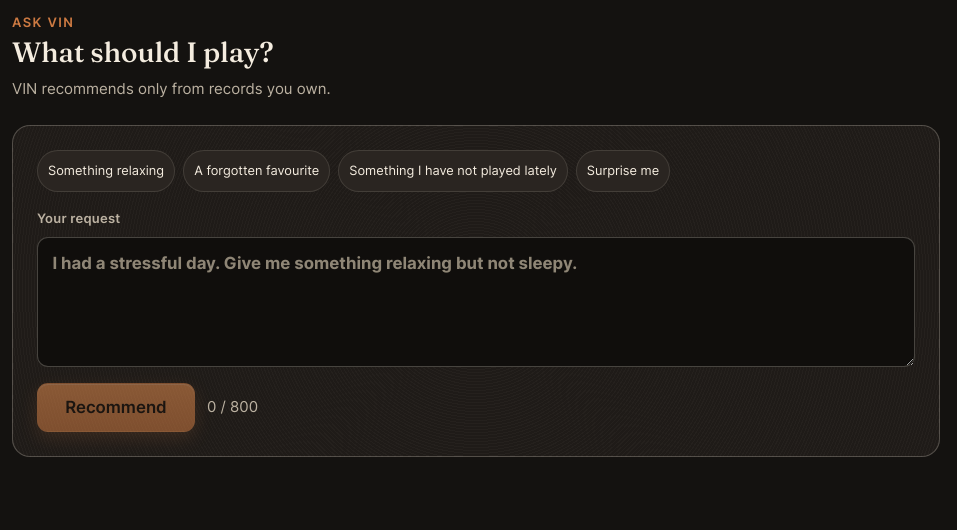
Scenario: CuratorPanel › renders the empty-collection state
Type "anything" into the text box labelled "Your request".
click(476, 302); type("anything")  # box [37,237,915,367]
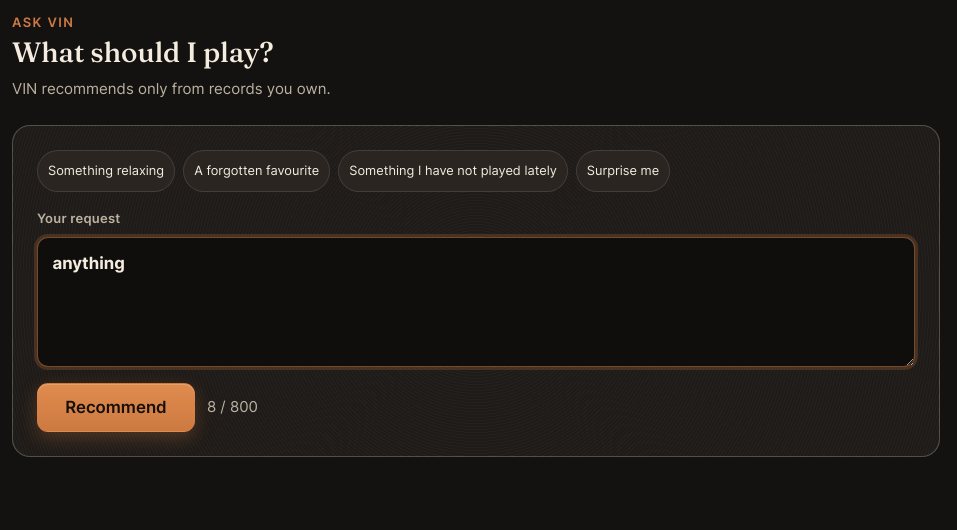
Click the button "Recommend".
click(116, 408)  # box [37,383,195,432]
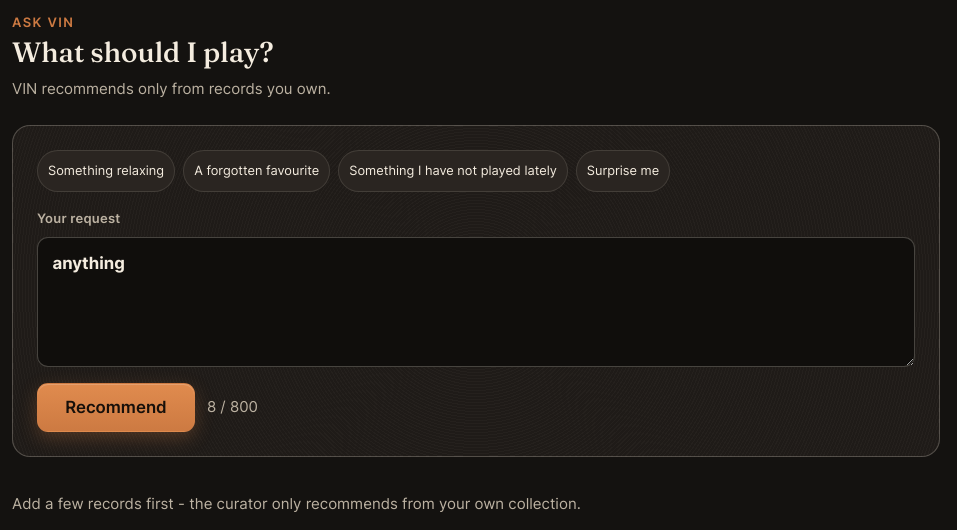
Check: the text "the curator only recommends from your own collection" is shown, box [12,494,581,513]
